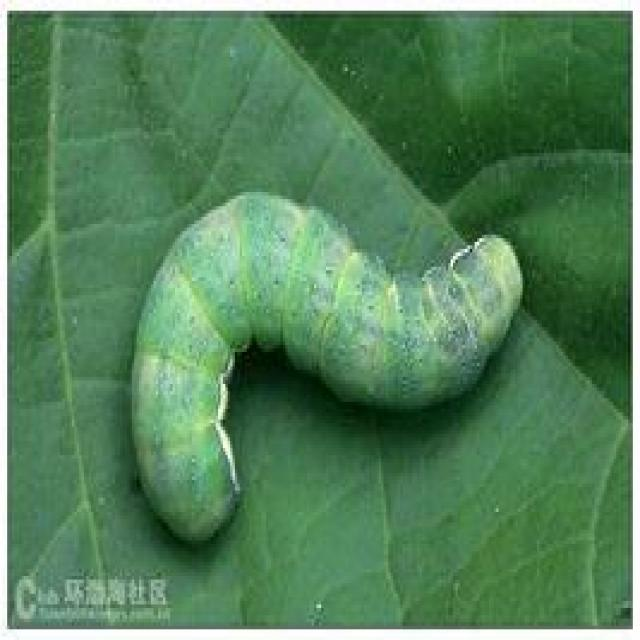BeetArmyWorm-Larva-: (107, 182, 532, 554)
